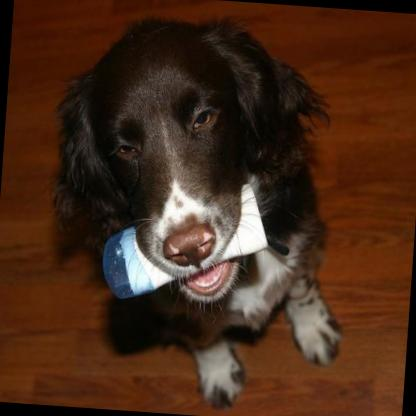English_springer: (29, 3, 368, 416)
